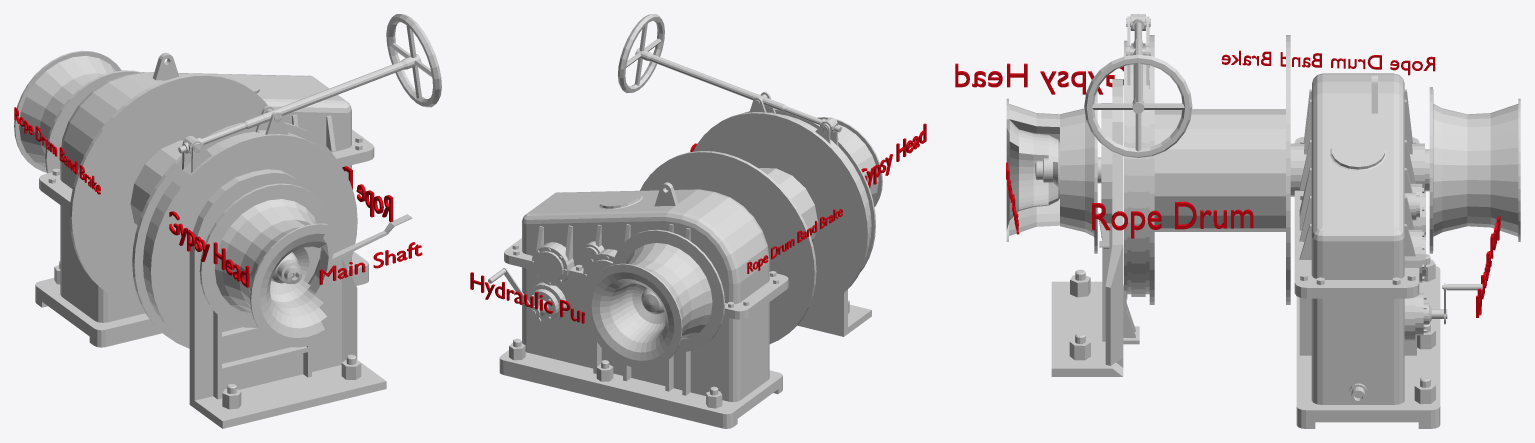
Rendered from machine_model_joined.glb.
The picture shows the model from 3 angles, left to right: view 1: azimuth 30°, elevation 25°; view 2: azimuth 150°, elevation 25°; view 3: azimuth 270°, elevation 25°; orthographic projection. The views are drawn at different scales.
Parts seen in each view (by area): view 1: Winch; view 2: Winch; view 3: Winch.
Boxes of the visible parts, bbox=[...] form: Winch: bbox=[14, 14, 441, 428]; Winch: bbox=[470, 14, 926, 428]; Winch: bbox=[955, 14, 1520, 428].
Size of the model in its own units: 3.76 by 3.67 by 5.3.
